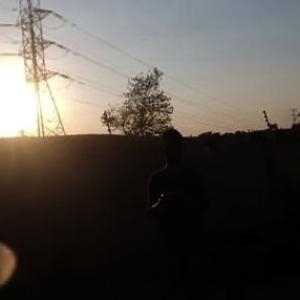follow: (140, 124, 212, 299)
